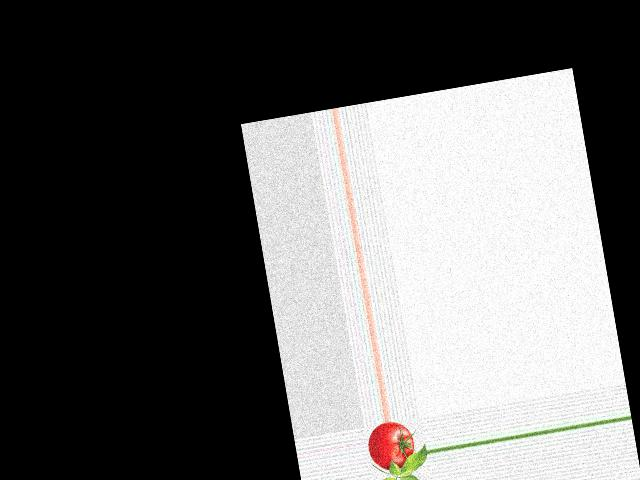tomato: (364, 418, 417, 473)
